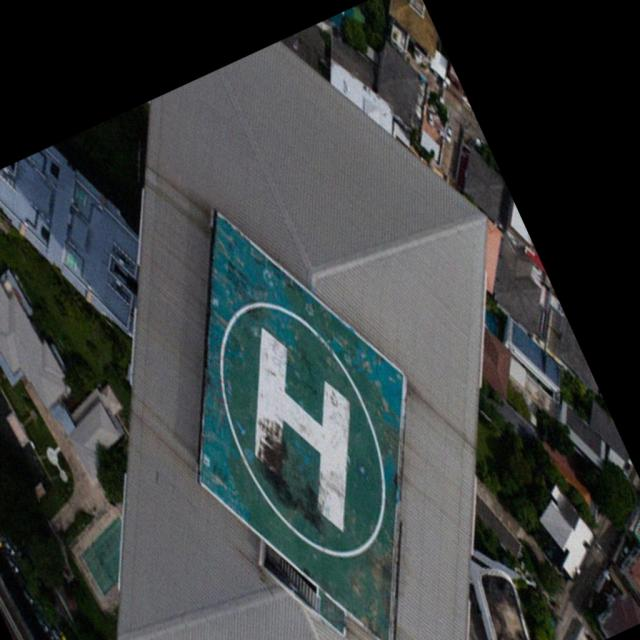helipad: (213, 294, 393, 564)
